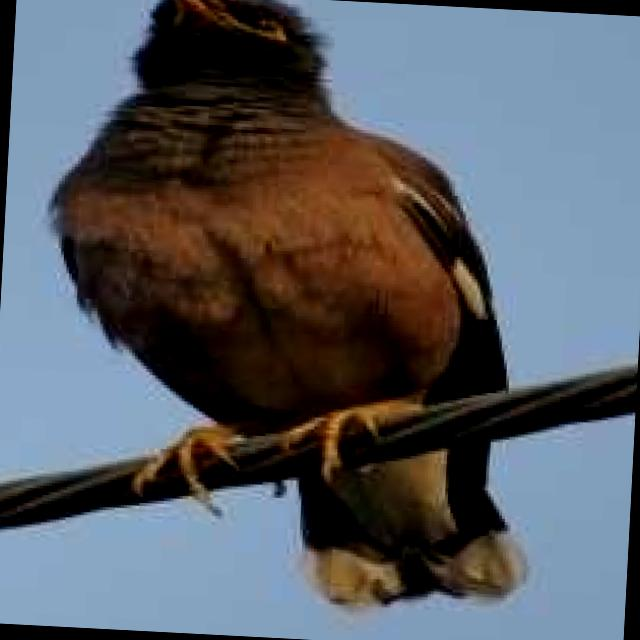bird: (22, 0, 553, 614)
